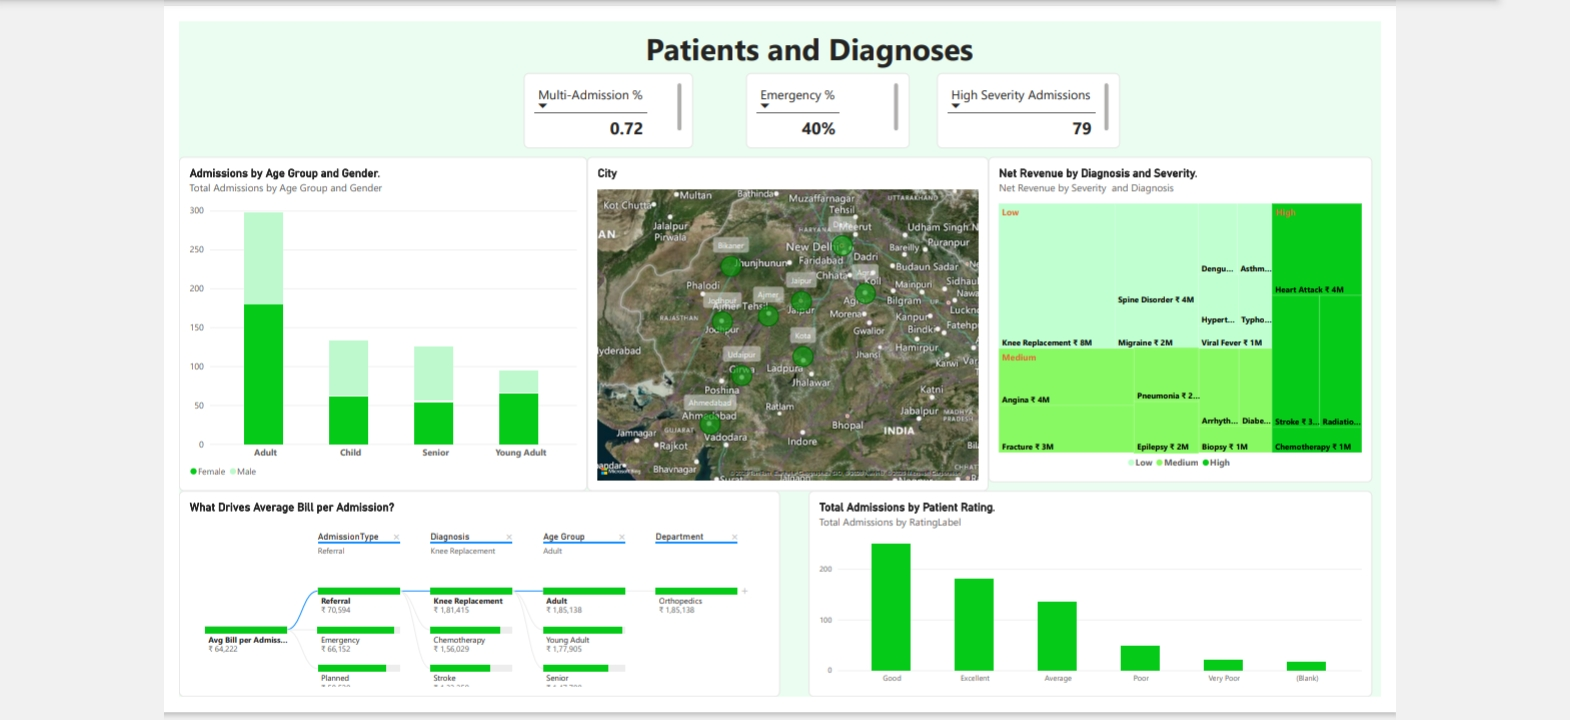

The dashboard page shown, as its layout file describes it:
{"tool":"powerbi","page":{"name":"Patients and Diagnoses","canvas":[1920,1080],"ordinal":2},"visuals":[{"type":"columnChart","title":"Admissions by Age Group and Gender.","fields":{"Category":["DimPaitent.Age Group"],"Series":["DimPaitent.Gender"],"Y":["_Measures.Total Admissions"]},"box":[0,216.8,651.7,534.7],"z":0},{"type":"textbox","box":[745.7,10,611.4,77.1],"z":1000},{"type":"treemap","title":"Net Revenue by Diagnosis and Severity.","fields":{"Details":["DimDiagnosis.Diagnosis"],"Group":["DimDiagnosis.Severity "],"Values":["_Measures.Net Revenue"]},"box":[1292.9,217.1,612.9,520],"z":2000},{"type":"decompositionTreeVisual","title":"What Drives Average Bill per Admission?","fields":{"Analyze":["_Measures.Avg Bill per Admission"],"ExplainBy":["DimAdmissionType.AdmissionType","DimDiagnosis.Diagnosis","DimPaitent.Age Group","DimDepartment.Department","DimPaitent.Residence Type"]},"box":[0,751.4,960,328.6],"z":3000},{"type":"columnChart","title":"Total Admissions by Patient Rating.","fields":{"Category":["DimRating.RatingLabel"],"Y":["_Measures.Total Admissions"]},"box":[1005.7,751.4,900,328.6],"z":4000},{"type":"tableEx","fields":{"Values":["_Measures.Multi-Admission %"]},"box":[551.4,82.9,270,120],"z":5000},{"type":"tableEx","fields":{"Values":["_Measures.Emergency %"]},"box":[905.7,82.9,261.4,120],"z":6000},{"type":"tableEx","fields":{"Values":["_Measures.High Severity Admissions"]},"box":[1211.4,82.9,291.4,120],"z":7000},{"type":"map","fields":{"Category":["DimPaitent.City","DimPaitent.State"]},"box":[651.7,216.8,641.1,534.7],"z":8000}]}

Visuals, with their boxes on the page's 1920x1080 design canvas (x1, y1, x2, y2). These are canvas units, not pixel positions in the 1570x720 screenshot, which may show the page scaled, cropped or inside an application window:
"Admissions by Age Group and Gender." columnChart: [x1=0, y1=217, x2=652, y2=752]
textbox: [x1=746, y1=10, x2=1357, y2=87]
"Net Revenue by Diagnosis and Severity." treemap: [x1=1293, y1=217, x2=1906, y2=737]
"What Drives Average Bill per Admission?" decompositionTreeVisual: [x1=0, y1=751, x2=960, y2=1080]
"Total Admissions by Patient Rating." columnChart: [x1=1006, y1=751, x2=1906, y2=1080]
tableEx - _Measures.Multi-Admission %: [x1=551, y1=83, x2=821, y2=203]
tableEx - _Measures.Emergency %: [x1=906, y1=83, x2=1167, y2=203]
tableEx - _Measures.High Severity Admissions: [x1=1211, y1=83, x2=1503, y2=203]
map - DimPaitent.City x DimPaitent.State: [x1=652, y1=217, x2=1293, y2=752]
